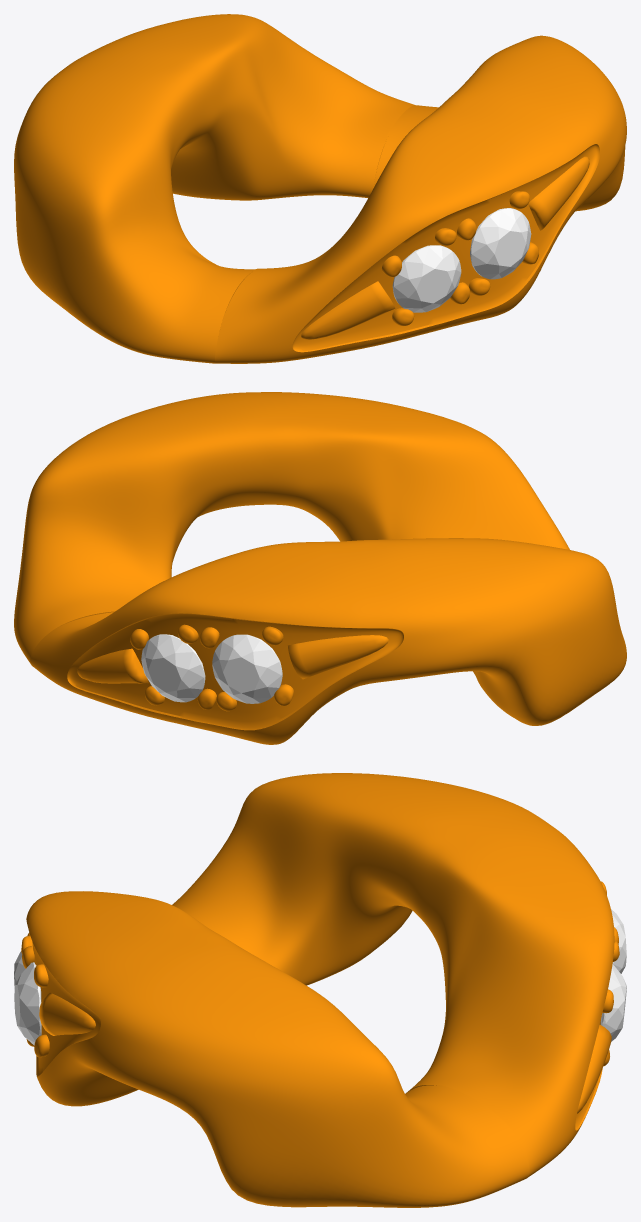
3 views of the same model, one above another, from view 1: azimuth 30°, elevation 25°; view 2: azimuth 150°, elevation 25°; view 3: azimuth 270°, elevation 25° (orthographic). The views are drawn at different scales.
Parts seen in each view (by area): view 1: B5-24-古巴链-OK-版-倒铜 1.005, B5-24-古巴链-OK-版-倒铜 1.001, Cube.033, file2.001, file2.003; view 2: B5-24-古巴链-OK-版-倒铜 1.001, B5-24-古巴链-OK-版-倒铜 1.005, Cube.042, file2.007, file2.006; view 3: B5-24-古巴链-OK-版-倒铜 1.005, B5-24-古巴链-OK-版-倒铜 1.001, Cube.033, file2.003, file2.006, Cube.042.
Part boxes in pixels (x1,y1,x2,y2): B5-24-古巴链-OK-版-倒铜 1.005: [14, 14, 415, 363]; B5-24-古巴链-OK-版-倒铜 1.001: [215, 35, 626, 363]; Cube.033: [301, 156, 589, 339]; file2.001: [392, 245, 461, 312]; file2.003: [470, 208, 531, 279]; B5-24-古巴链-OK-版-倒铜 1.001: [14, 392, 569, 663]; B5-24-古巴链-OK-版-倒铜 1.005: [30, 538, 626, 744]; Cube.042: [77, 635, 388, 683]; file2.007: [212, 634, 282, 703]; file2.006: [141, 634, 205, 702]; B5-24-古巴链-OK-版-倒铜 1.005: [172, 773, 614, 1176]; B5-24-古巴链-OK-版-倒铜 1.001: [26, 891, 529, 1207]; Cube.033: [39, 992, 95, 1035]; file2.003: [14, 962, 41, 1045]; file2.006: [600, 964, 626, 1041]; Cube.042: [577, 1025, 611, 1113].
Size of the model in its own units: 0.1927 by 0.0568 by 0.1649.
